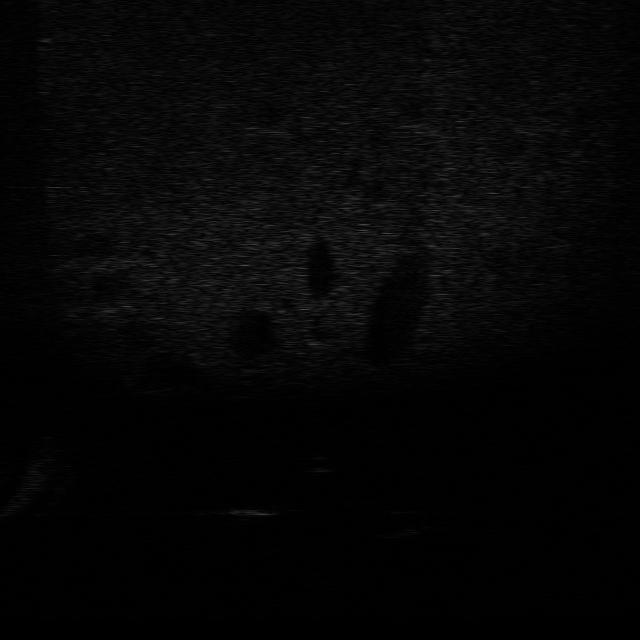ball: (294, 449, 341, 477)
square cage: (218, 500, 282, 524)
tyre: (365, 504, 434, 542)
